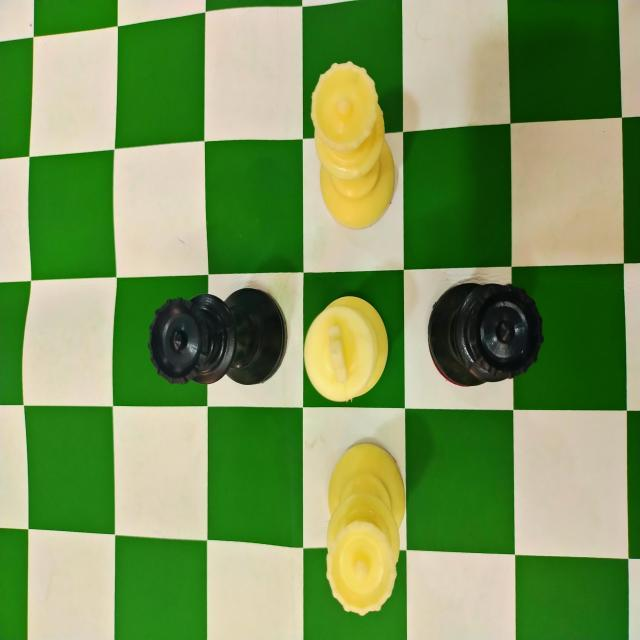black-queen: (146, 284, 290, 388), (426, 280, 546, 388)
white-king: (302, 293, 392, 407)
white-queen: (322, 439, 408, 621), (311, 62, 396, 230)
